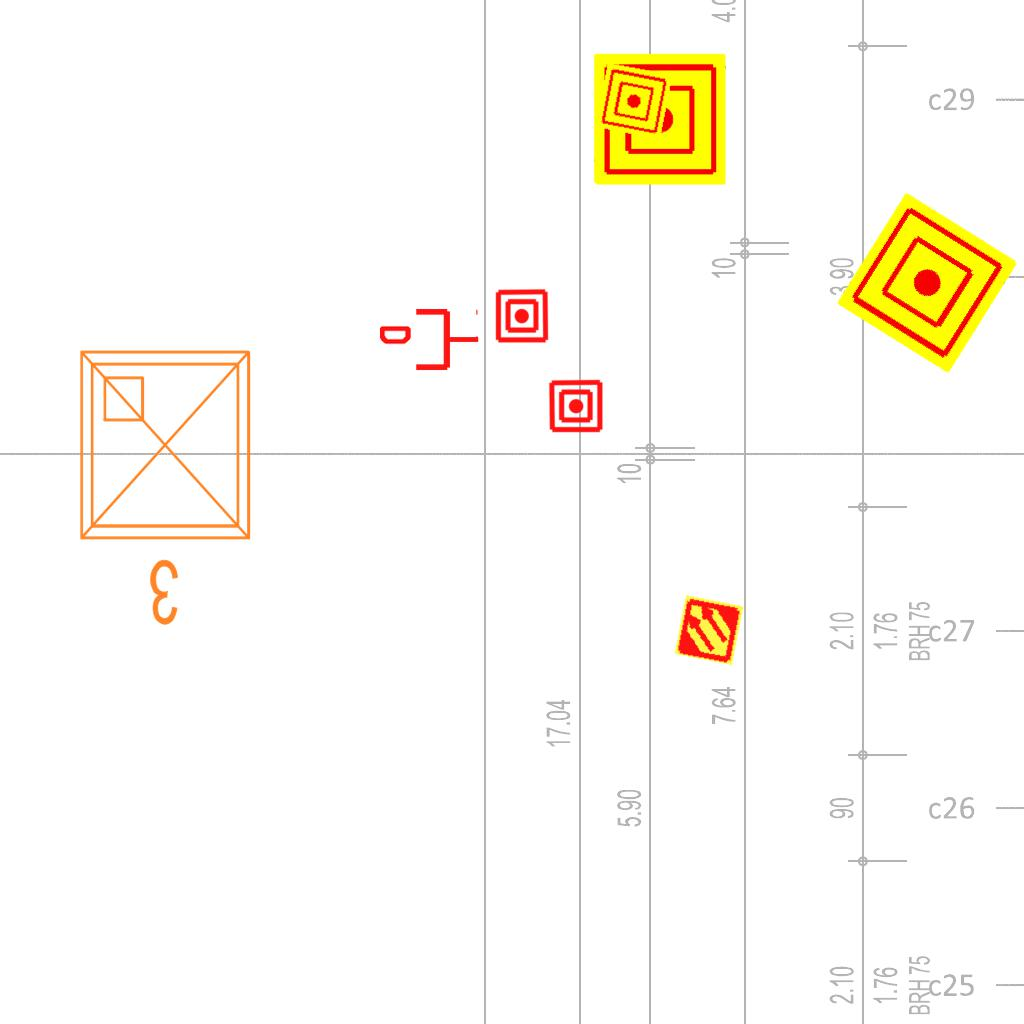ASR_Ansaugrauchmelder: (672, 593, 746, 667)
Datenanschluss_einfach: (380, 305, 480, 374)
Einbaudownlights_LED_Konferenzraeume: (65, 336, 273, 636)
NAM-Nichtautomatischer_Melder: (836, 192, 1018, 374), (594, 53, 726, 185), (595, 62, 673, 140), (494, 288, 550, 344), (548, 378, 604, 434)
